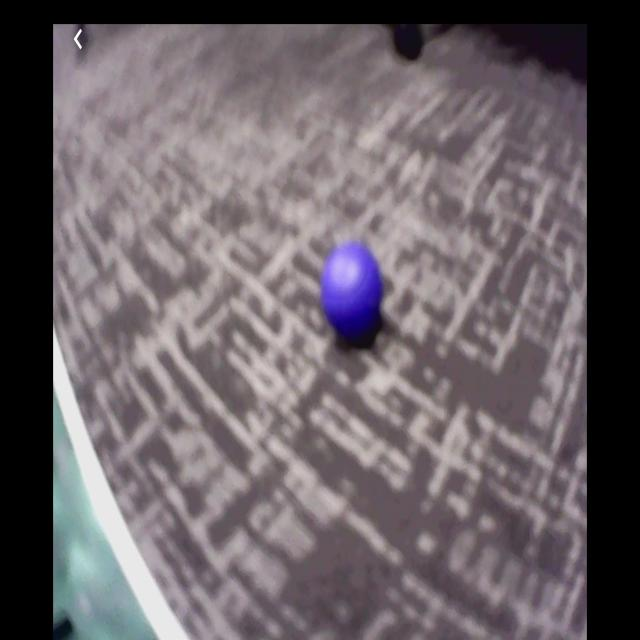ball: (322, 240, 383, 334)
